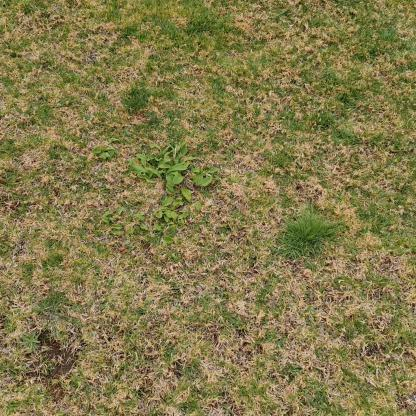Weeds: (102, 140, 219, 248), (92, 138, 121, 162), (20, 331, 41, 355)
